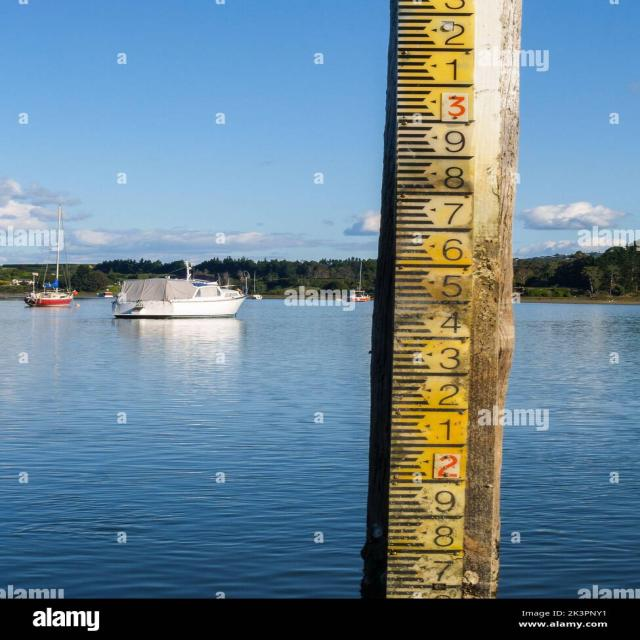ruler: (368, 0, 485, 598)
value: (430, 450, 468, 482), (428, 523, 464, 552), (429, 487, 465, 516), (440, 91, 472, 123), (437, 378, 472, 407), (435, 416, 471, 444), (437, 344, 471, 372), (441, 18, 472, 48), (440, 200, 470, 229), (442, 164, 474, 191), (440, 235, 469, 264), (438, 271, 467, 300), (442, 128, 471, 156), (429, 558, 458, 584), (436, 311, 462, 335), (445, 56, 463, 84)
